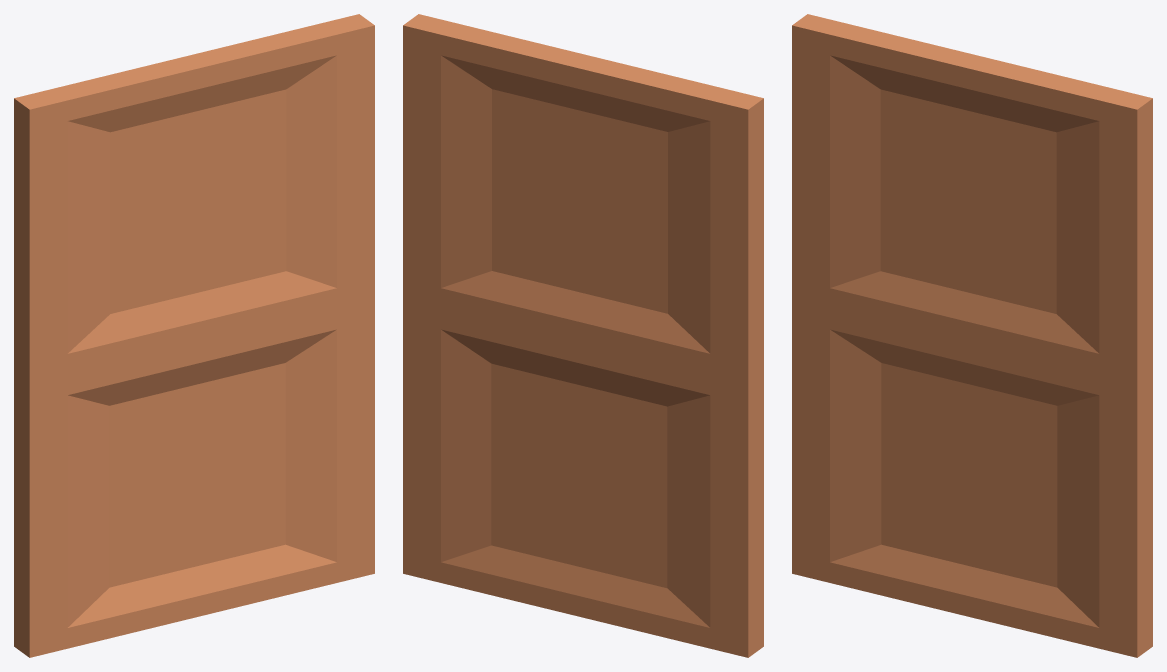
Rendered from Door.fbx.
The picture shows the model from 3 angles, left to right: view 1: azimuth 30°, elevation 25°; view 2: azimuth 150°, elevation 25°; view 3: azimuth 330°, elevation 25°; orthographic projection.
Parts seen in each view (by area): view 1: Door; view 2: Door; view 3: Door.
Part boxes in pixels (x1,y1,x2,y2): Door: (14, 14, 374, 657); Door: (403, 14, 763, 657); Door: (792, 14, 1152, 657).
Bounding box in the file's own units: 384 × 582 × 30.1.
